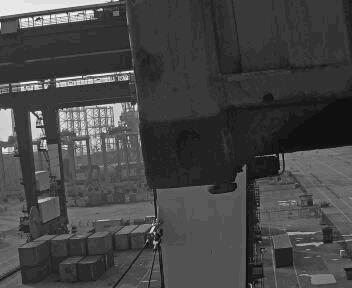twist_lock_1: (196, 170, 248, 208)
